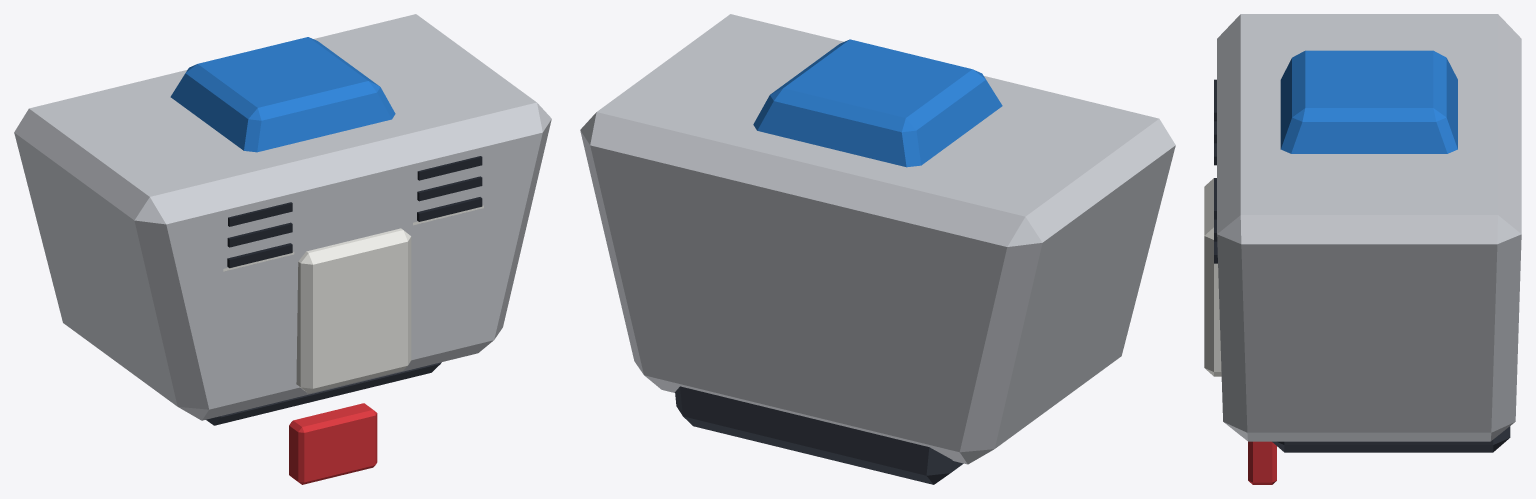
Rendered from torso_cockpit.glb.
3 views of the same model, side by side, from view 1: azimuth 30°, elevation 25°; view 2: azimuth 150°, elevation 25°; view 3: azimuth 270°, elevation 25° (orthographic). The views are drawn at different scales.
Parts seen in each view (by area): view 1: torso_cockpit; view 2: torso_cockpit; view 3: torso_cockpit.
Boxes of the visible parts, x1,y1,x2,y2 form: torso_cockpit: [14, 14, 551, 484]; torso_cockpit: [580, 14, 1175, 484]; torso_cockpit: [1204, 14, 1521, 484].
Bounding box in the file's own units: 1.06 × 0.88 × 0.6537.
